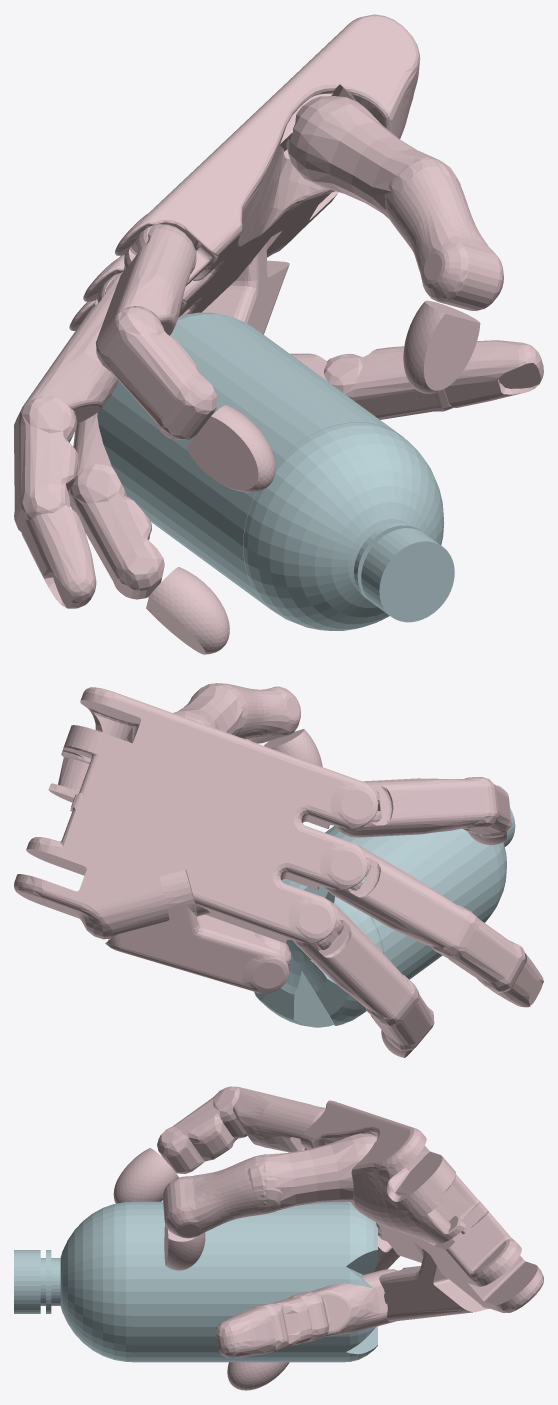
Rendered from grasp_6.glb.
The picture shows the model from 3 angles, top to bottom: view 1: azimuth 30°, elevation 25°; view 2: azimuth 150°, elevation 25°; view 3: azimuth 270°, elevation 25°; orthographic projection. The views are drawn at different scales.
Visible parts, largest first — view 1: world; view 2: world; view 3: world.
Part boxes in pixels (x1,y1,x2,y2): world: [14, 14, 543, 654]; world: [14, 683, 543, 1057]; world: [14, 1086, 543, 1390].
Size of the model in its own units: 0.1574 by 0.1478 by 0.1988.
